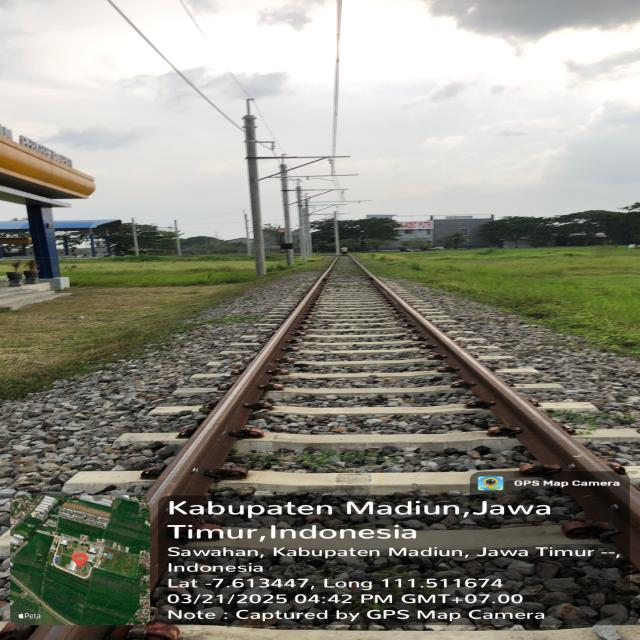rail-detection: (366, 273, 640, 567), (146, 261, 336, 587)
